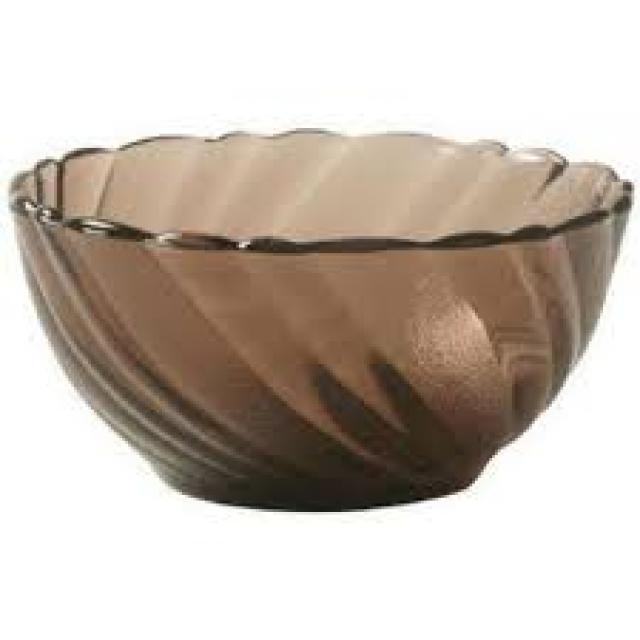Glass: (8, 127, 633, 517)
